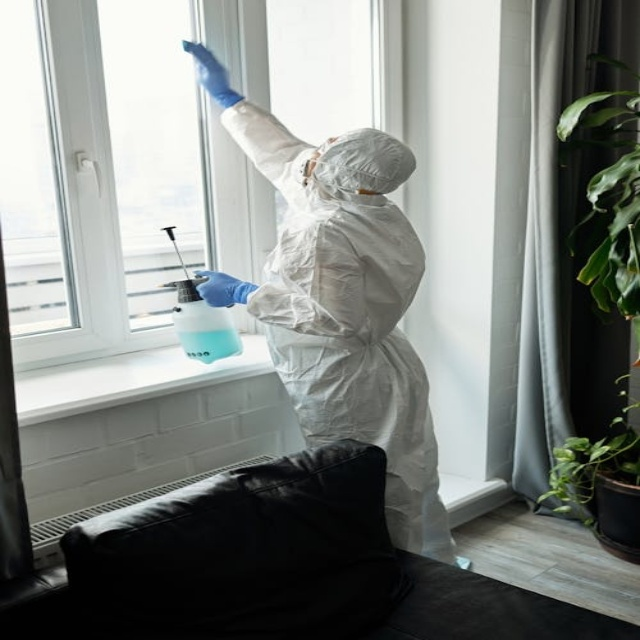Guantes: (181, 38, 242, 108), (192, 269, 259, 308)
